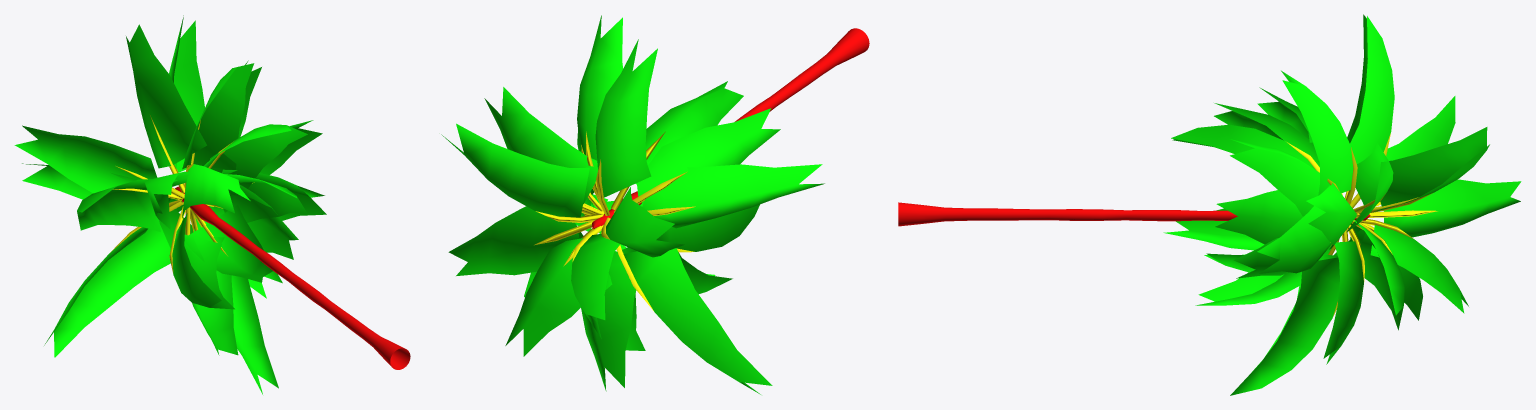
Rendered from M_P10_Tree_12.FBX.
The picture shows the model from 3 angles, left to right: view 1: azimuth 30°, elevation 25°; view 2: azimuth 150°, elevation 25°; view 3: azimuth 270°, elevation 25°; orthographic projection. The views are drawn at different scales.
Visible parts, largest first — view 1: M_P10_Tree_12_LOD0; view 2: M_P10_Tree_12_LOD0; view 3: M_P10_Tree_12_LOD0.
Boxes of the visible parts, x1,y1,x2,y2 form: M_P10_Tree_12_LOD0: [14, 15, 410, 394]; M_P10_Tree_12_LOD0: [441, 15, 869, 394]; M_P10_Tree_12_LOD0: [898, 14, 1521, 395].
Bounding box in the file's own units: 245 × 480 × 297.
